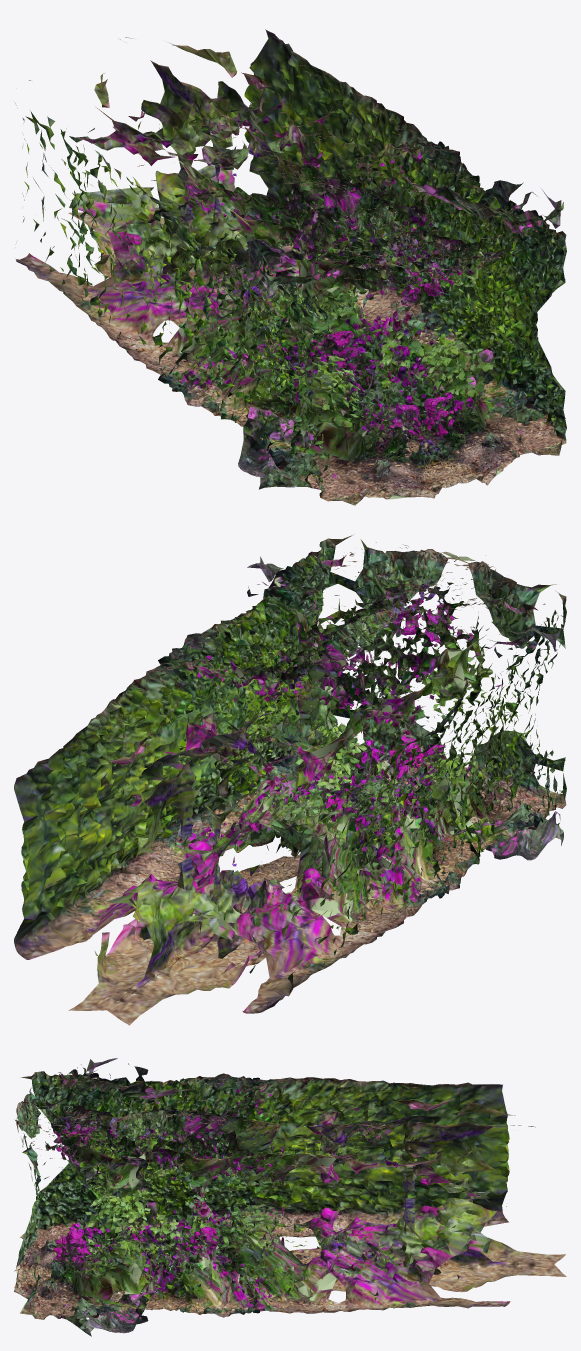
File: child.glb
The picture shows the model from 3 angles, top to bottom: view 1: azimuth 30°, elevation 25°; view 2: azimuth 150°, elevation 25°; view 3: azimuth 270°, elevation 25°; orthographic projection. The views are drawn at different scales.
Visible parts, largest first — view 1: f21.2; view 2: f21.2; view 3: f21.2.
Part boxes in pixels (<box>): f21.2: <box>15,29,566,505</box>; f21.2: <box>14,534,566,1025</box>; f21.2: <box>14,1058,566,1336</box>.
Size of the model in its own units: 2.72 by 2.06 by 5.65.
1 material, 1 textured.
